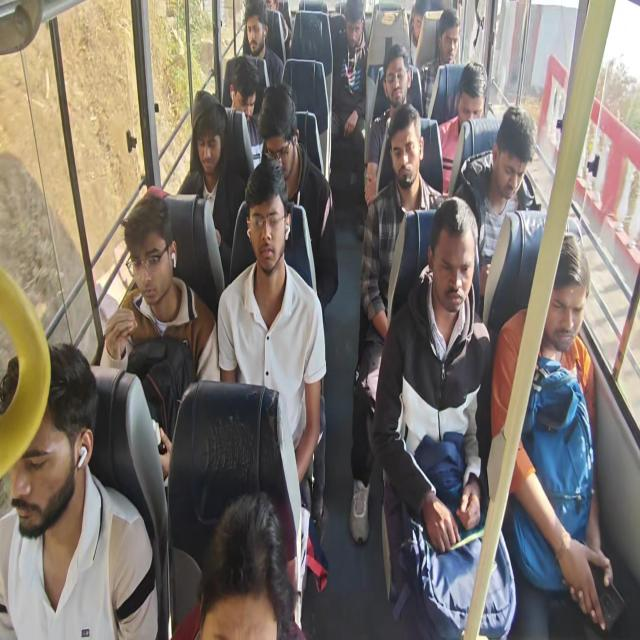person: (0, 360, 91, 523), (201, 513, 288, 640), (128, 198, 177, 311), (243, 172, 289, 278), (538, 240, 583, 347), (261, 92, 303, 189), (490, 118, 527, 206), (441, 225, 475, 319), (194, 88, 223, 170), (389, 117, 420, 190), (333, 0, 368, 56), (230, 63, 263, 121), (241, 7, 269, 59), (383, 50, 409, 104), (461, 68, 484, 129), (410, 0, 433, 52), (442, 17, 459, 58)
